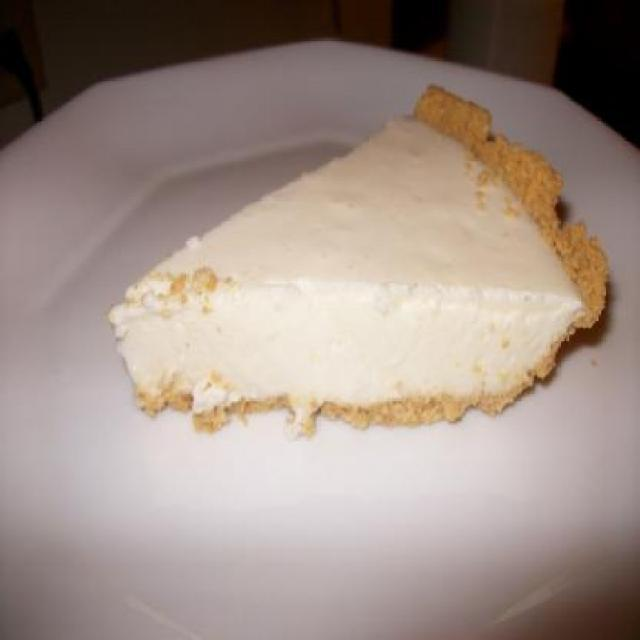Rare cheese cake: (91, 77, 611, 443)
